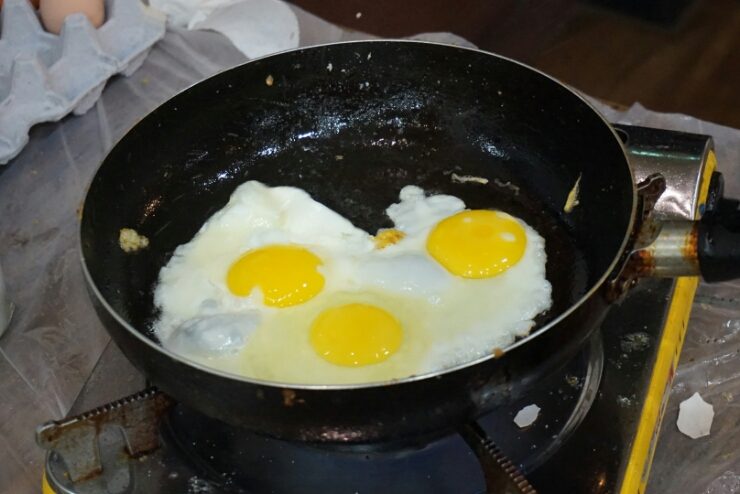fried egg: (164, 172, 527, 356)
